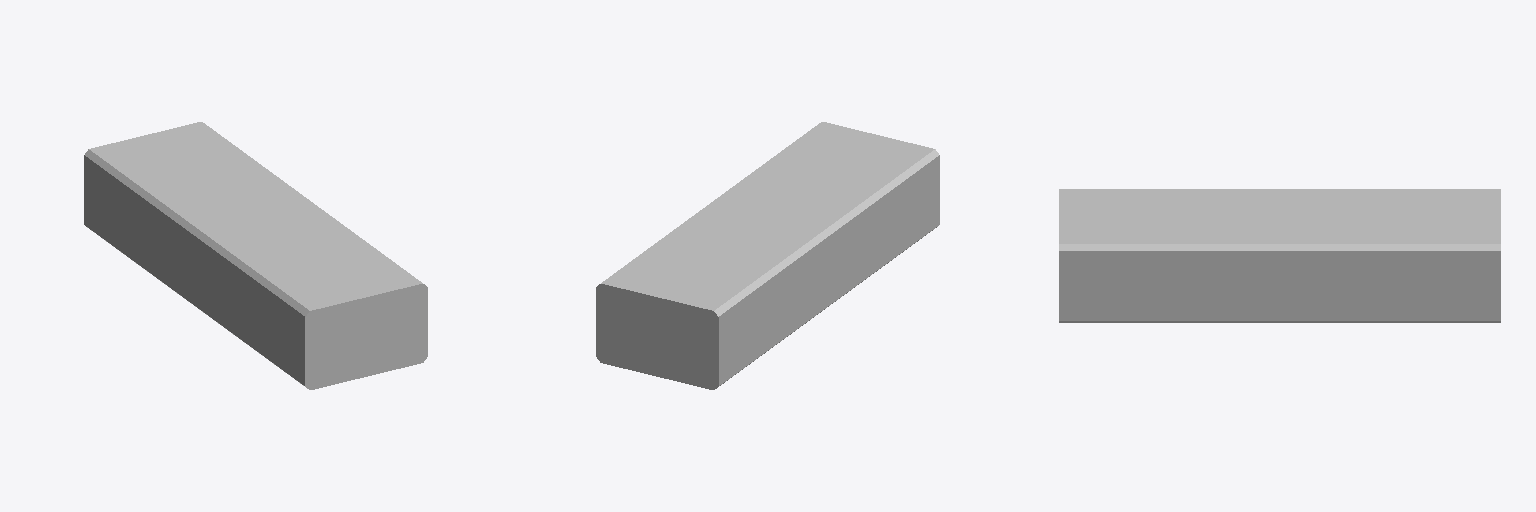
File: industreal_rectangular_peg_16mm.obj
3 renders of one model, left to right at view 1: azimuth 30°, elevation 25°; view 2: azimuth 150°, elevation 25°; view 3: azimuth 270°, elevation 25°, orthographic.
Bounding box in the file's own units: 0.016 × 0.0099 × 0.05.